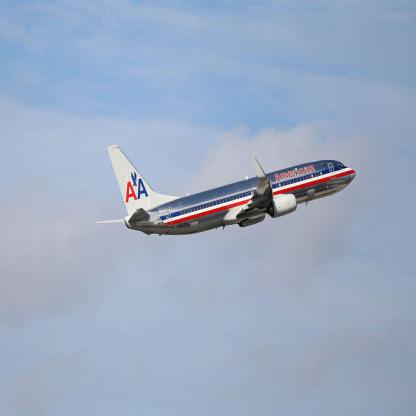CIV_Plane: (84, 134, 364, 260)
